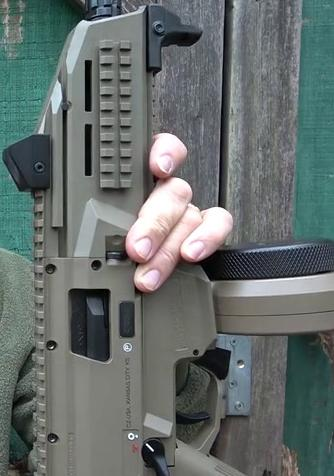gun: (1, 1, 334, 476)
